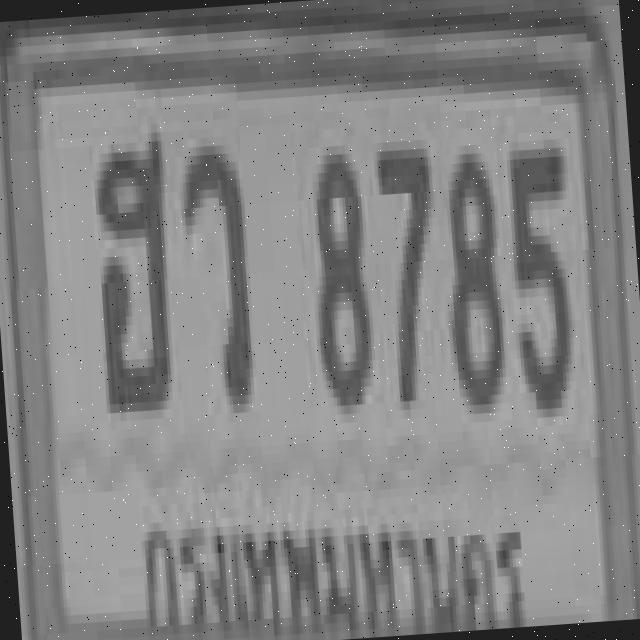46WorWaen: (176, 135, 255, 407)
5: (502, 138, 578, 410)
53HorNokHook: (84, 128, 176, 408)
7: (373, 140, 441, 402)
8: (436, 144, 504, 406), (303, 140, 371, 402)
Bangkok: (131, 477, 532, 640)
